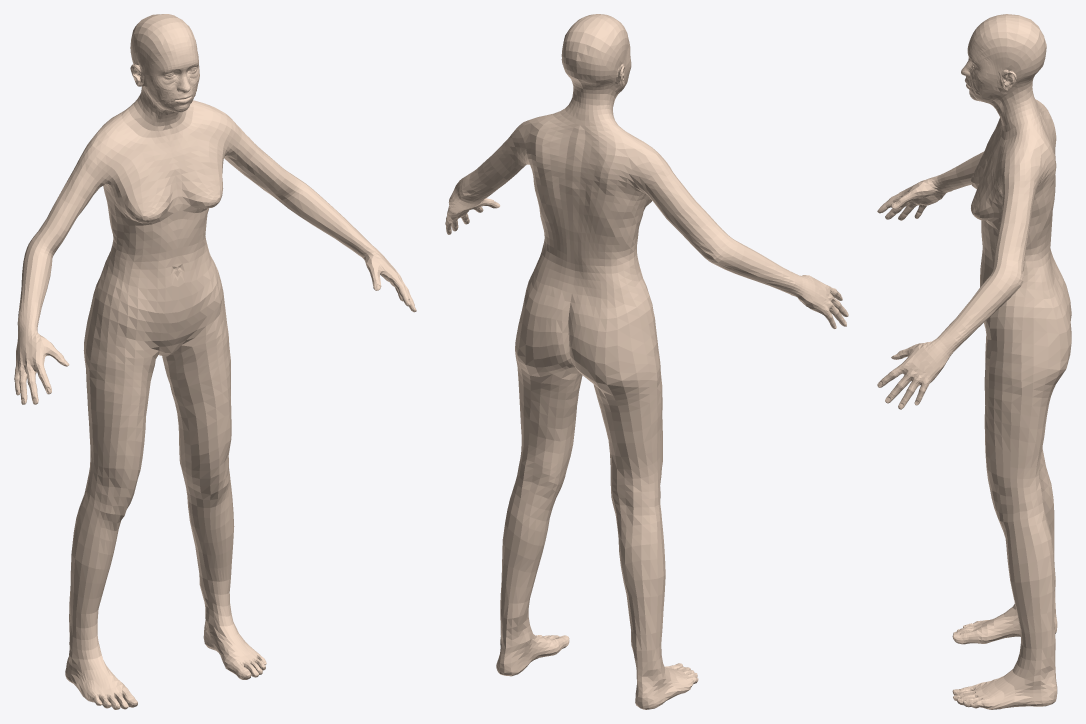
The model's file is female-older-fit-medium.glb.
3 views of the same model, side by side, from view 1: azimuth 30°, elevation 25°; view 2: azimuth 150°, elevation 25°; view 3: azimuth 270°, elevation 25° (orthographic).
Visible parts, largest first — view 1: world; view 2: world; view 3: world.
Boxes of the visible parts, box(x1,y1,x2,y2) form: world: box(14, 14, 416, 709); world: box(445, 14, 848, 709); world: box(877, 14, 1071, 709).
Size of the model in its own units: 1.13 by 1.8 by 0.4861.
